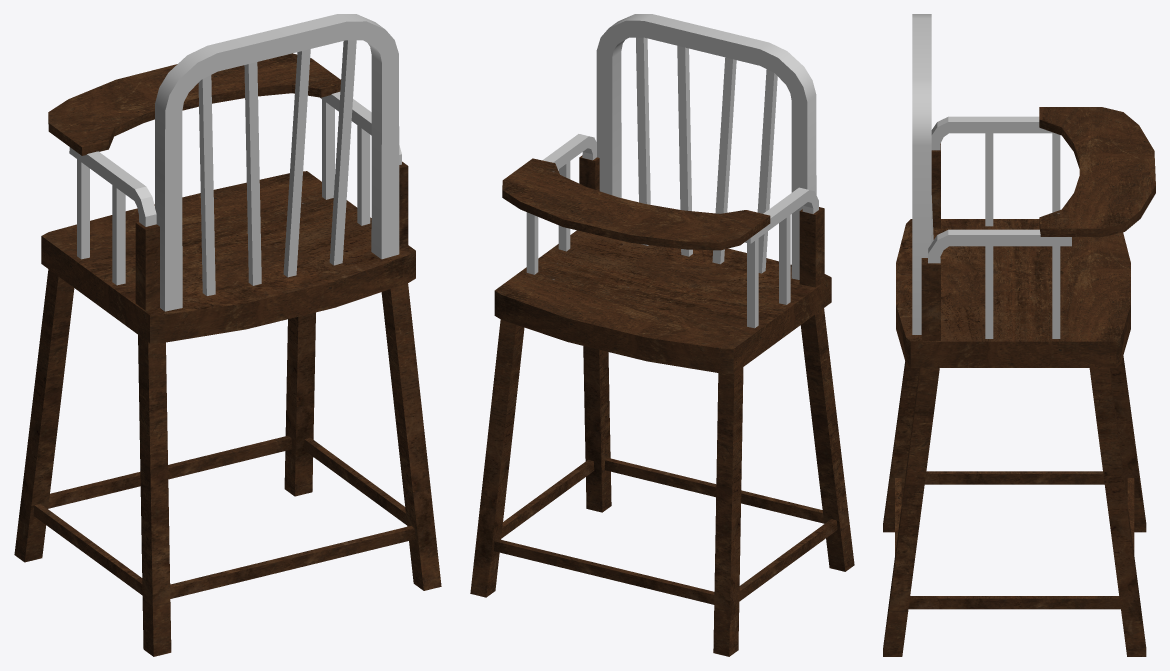
File: W Child Seat.fbx
3 renders of one model, left to right at view 1: azimuth 30°, elevation 25°; view 2: azimuth 150°, elevation 25°; view 3: azimuth 270°, elevation 25°, orthographic. The views are drawn at different scales.
Visible parts, largest first — view 1: Child Seat; view 2: Child Seat; view 3: Child Seat.
Boxes of the visible parts, <box> form: Child Seat: <box>14,14,441,656</box>; Child Seat: <box>470,14,854,656</box>; Child Seat: <box>883,14,1155,656</box>.
Size of the model in its own units: 37.53 by 71.4 by 32.59.
